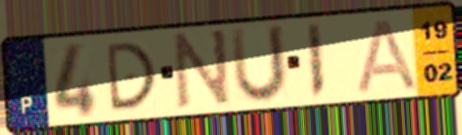4: (51, 40, 100, 120)
A: (355, 16, 422, 95)
D: (103, 39, 159, 114)
I: (304, 21, 327, 101)
N: (173, 26, 232, 112)
U: (228, 22, 289, 106)
